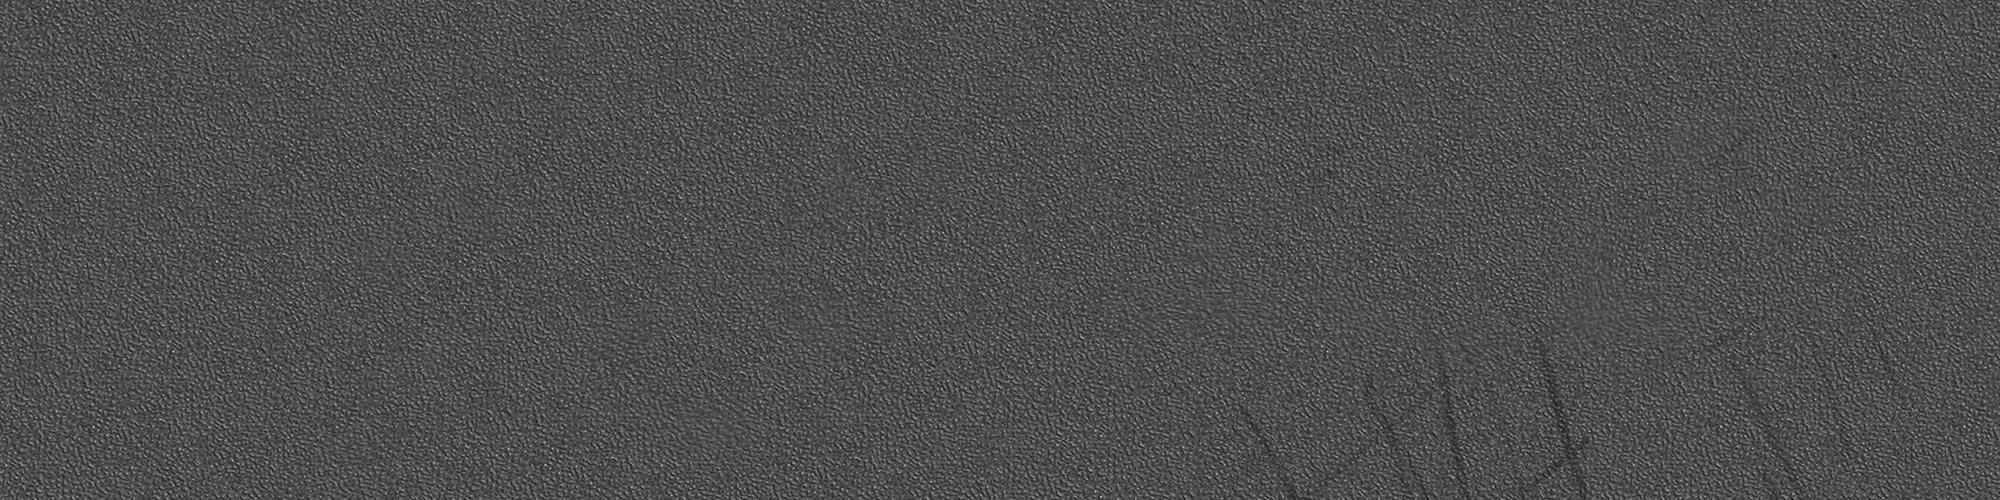Scratches: (1306, 351, 1468, 497), (1698, 315, 1810, 500), (1489, 386, 1597, 499), (1534, 341, 1594, 497), (1364, 378, 1437, 496), (1814, 343, 1865, 499), (1236, 406, 1301, 499), (1869, 328, 1904, 436), (1704, 119, 1760, 167), (1318, 165, 1341, 190)
